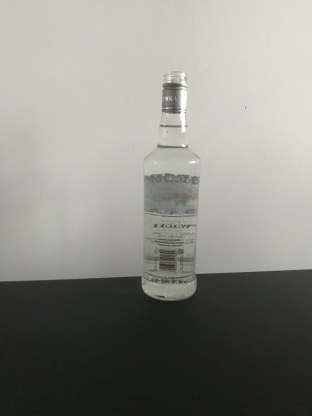nakretka: (160, 69, 189, 114)
